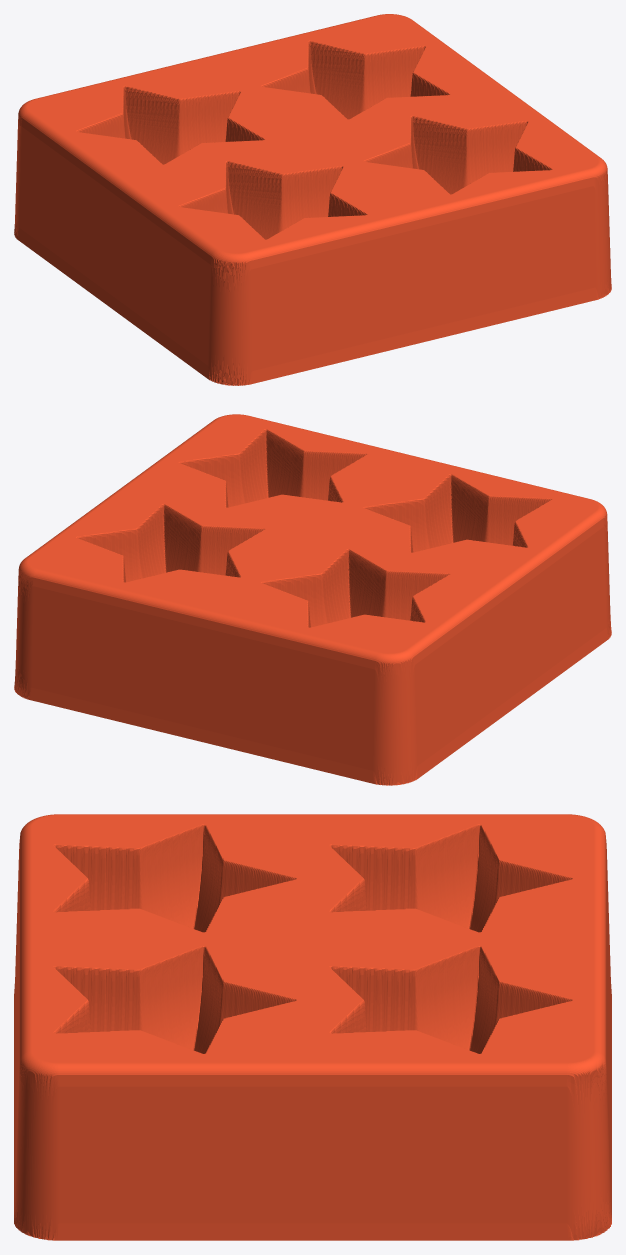
File: mold.glb
3 views of the same model, one above another, from view 1: azimuth 30°, elevation 25°; view 2: azimuth 150°, elevation 25°; view 3: azimuth 270°, elevation 25° (orthographic). The views are drawn at different scales.
Parts seen in each view (by area): view 1: geometry_0; view 2: geometry_0; view 3: geometry_0.
Part boxes in pixels (left/top/right/bottom): geometry_0: left=14, top=14, right=611, bottom=385; geometry_0: left=14, top=414, right=611, bottom=785; geometry_0: left=14, top=814, right=611, bottom=1240.
Size of the model in its own units: 0.1248 by 0.0377 by 0.1201.
